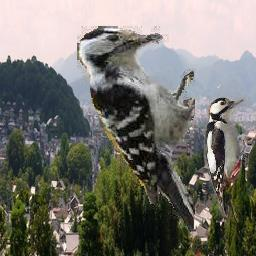Woodpecker: (77, 26, 195, 234), (204, 98, 250, 223)
